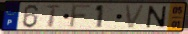1: (94, 4, 106, 29)
6: (21, 3, 40, 29)
F: (67, 4, 94, 30)
N: (146, 5, 168, 29)
T: (44, 5, 63, 29)
V: (123, 4, 147, 30)
